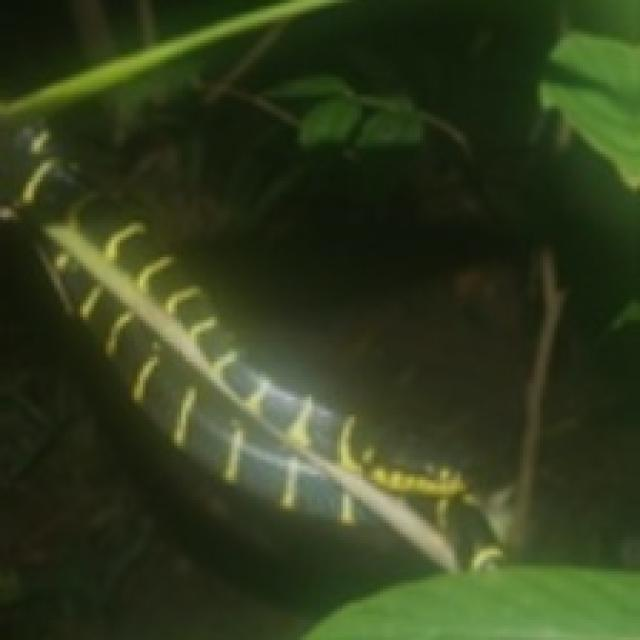mangrove cat snake: (0, 131, 500, 569)
